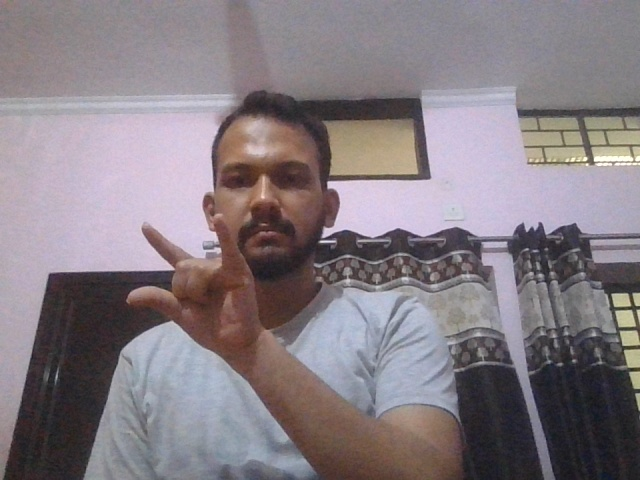iloveyou: (124, 212, 265, 360)
